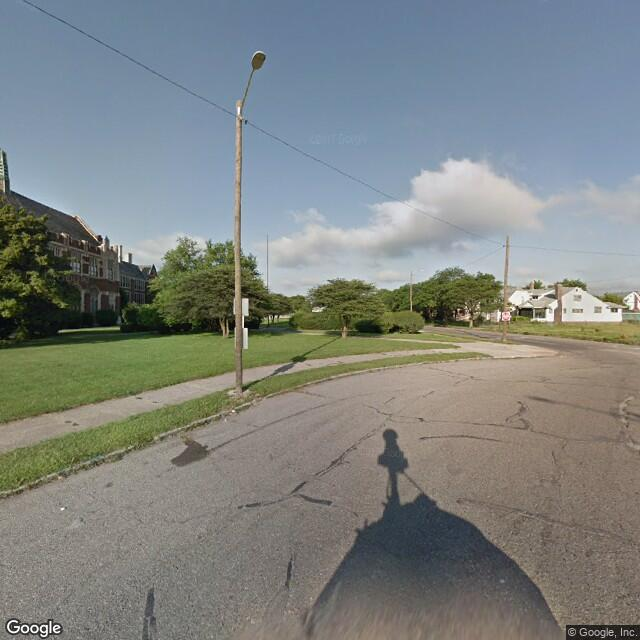litter: (57, 505, 68, 513), (228, 408, 238, 413)
